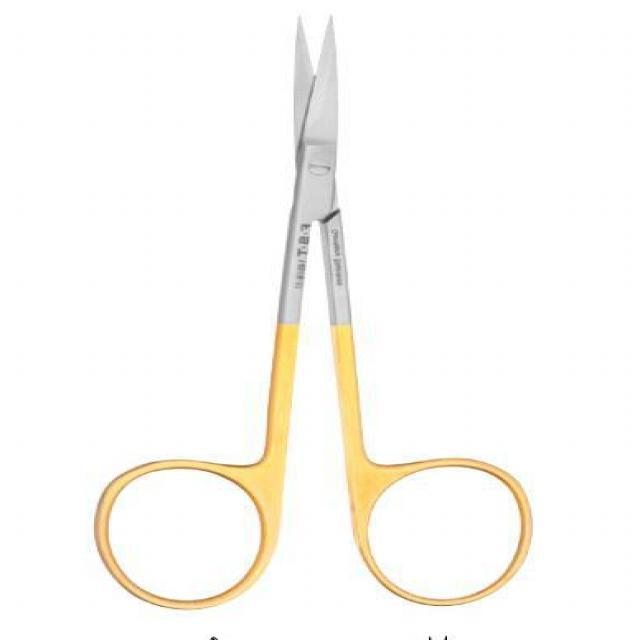Iris: (89, 12, 536, 613)
